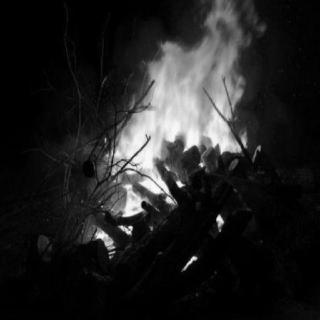Fire: (79, 9, 275, 253), (179, 254, 199, 271)
